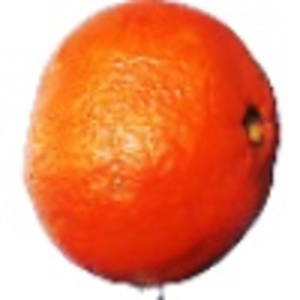tangerina: (21, 1, 284, 300)
